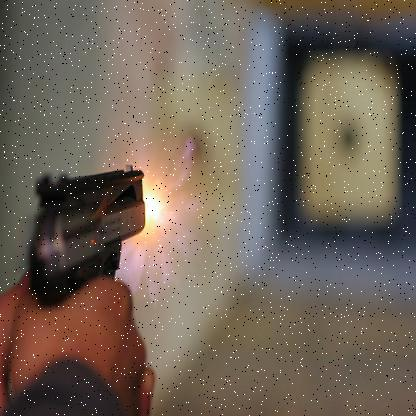pistol: (27, 159, 144, 311)
